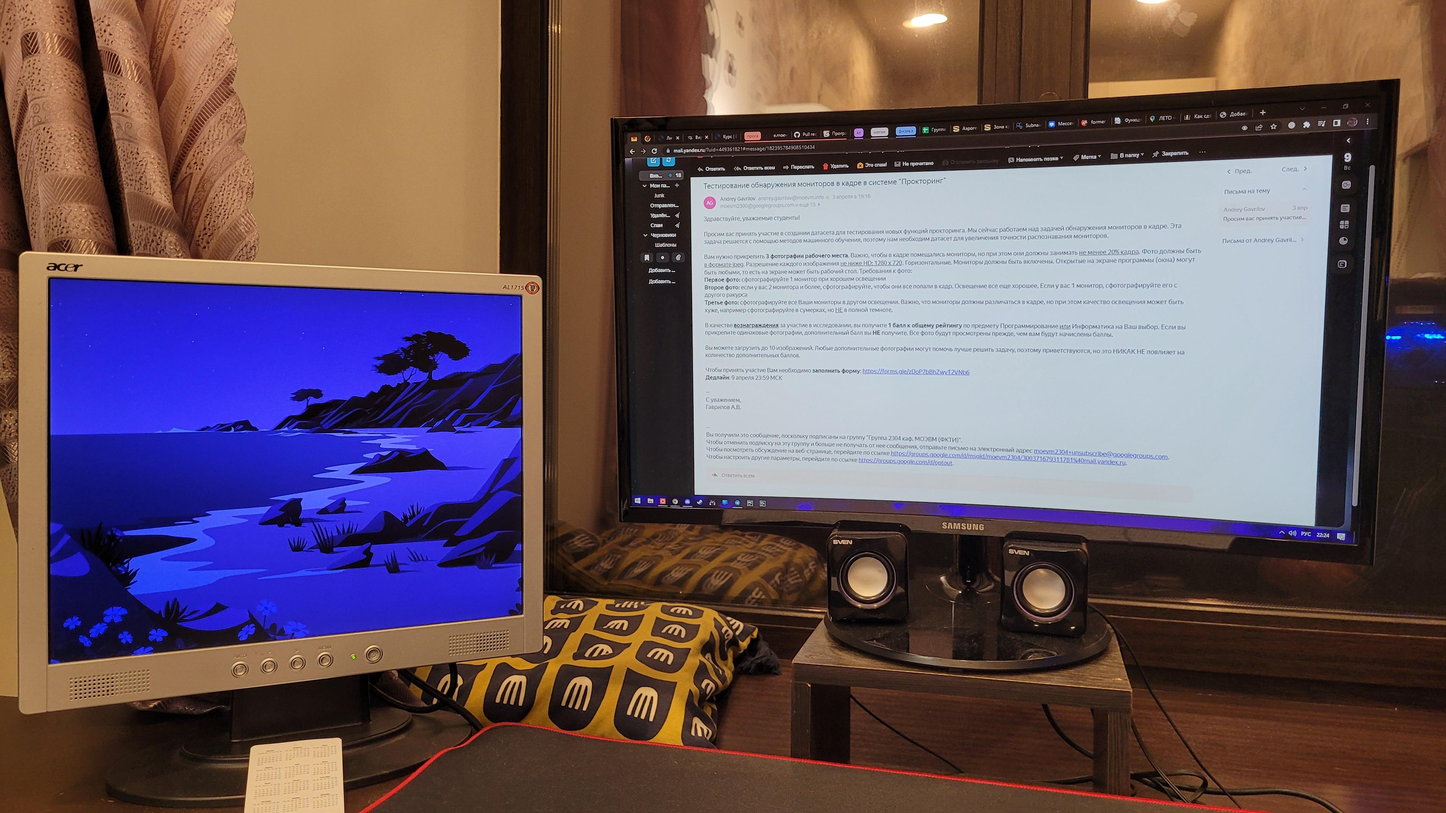monitor: (602, 75, 1400, 577), (13, 244, 552, 715)
